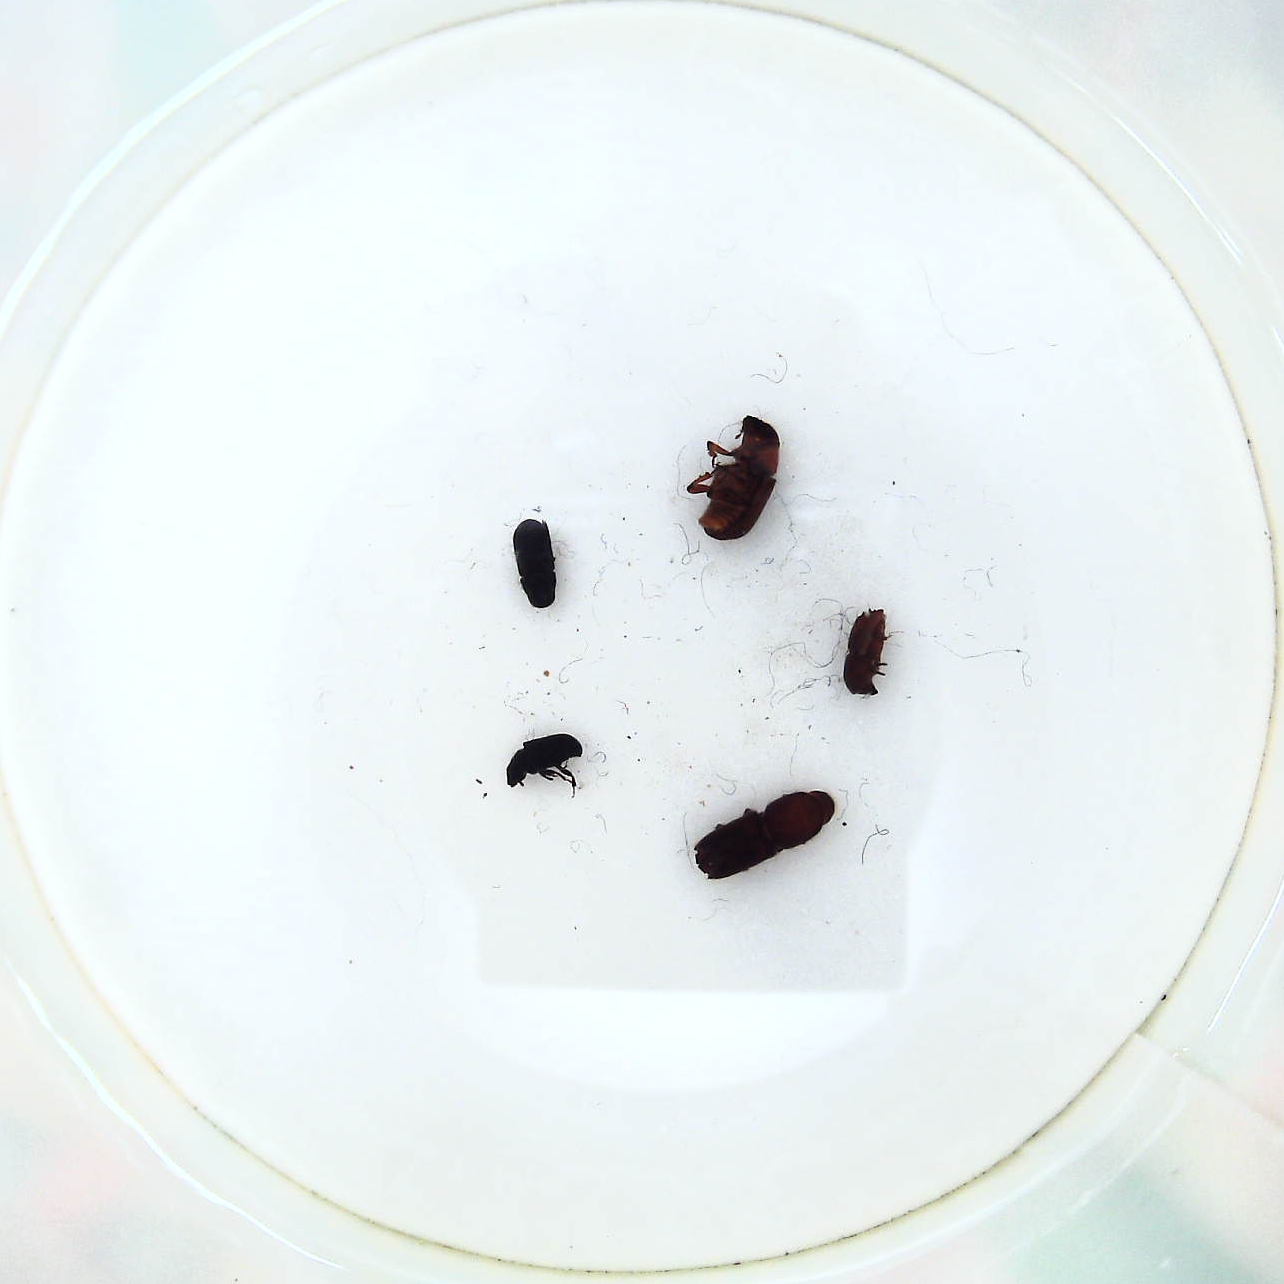Boerner: (690, 790, 845, 880)
Leconte: (688, 412, 785, 546)
armandi: (507, 510, 568, 614)
coleoptera: (502, 729, 588, 802)
linnaeus: (835, 602, 892, 702)
